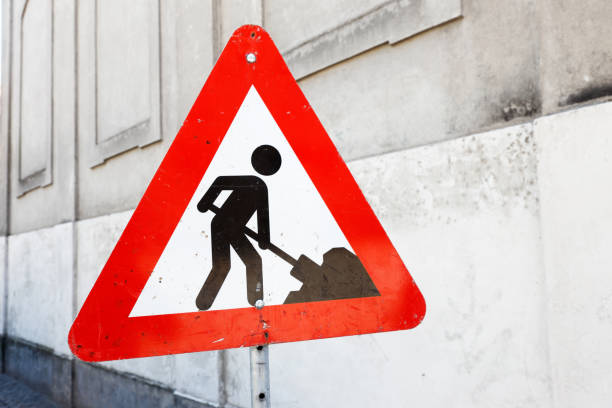yol_calismasi_levha: (76, 23, 427, 352)
